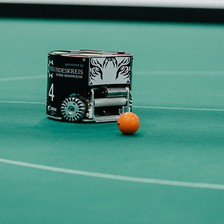ball: (116, 110, 140, 134)
robot: (45, 48, 134, 125)
